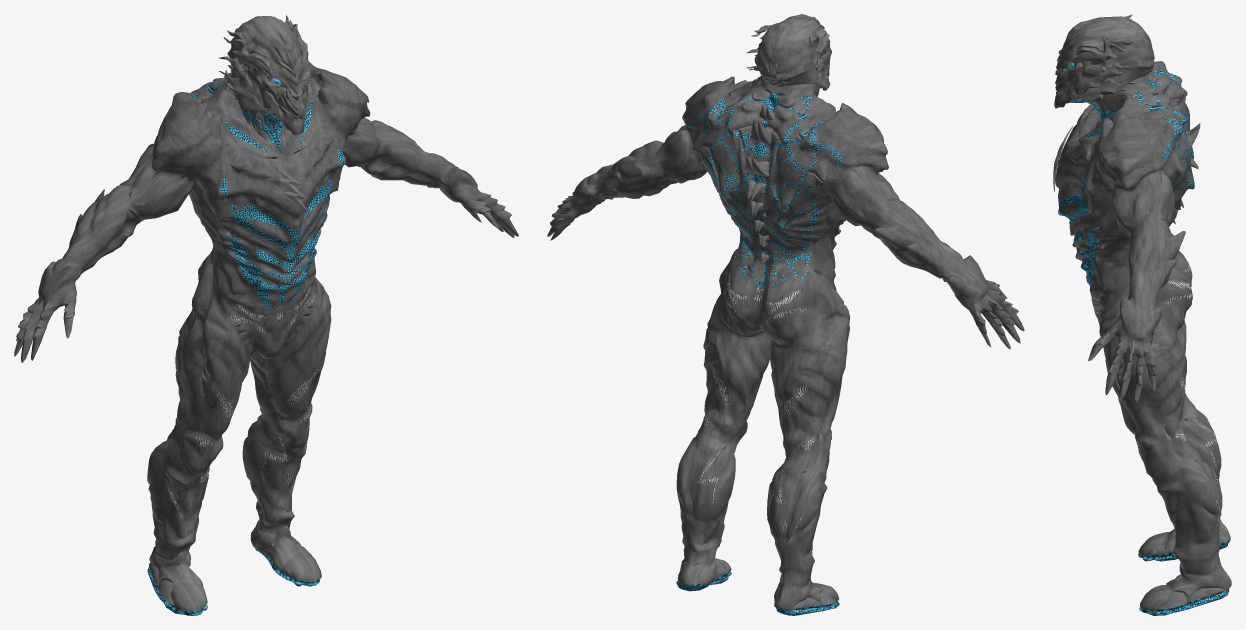
The model's file is cw_savitar.glb.
3 renders of one model, left to right at view 1: azimuth 30°, elevation 25°; view 2: azimuth 150°, elevation 25°; view 3: azimuth 270°, elevation 25°, orthographic. The views are drawn at different scales.
Visible parts, largest first — view 1: v1_30_Maps_0_5; view 2: v1_30_Maps_0_5, v1_Thrones_0_6; view 3: v1_30_Maps_0_5, v1_Thrones_0_6.
Boxes of the visible parts, x1,y1,x2,y2 form: v1_30_Maps_0_5: (14,15,518,615); v1_30_Maps_0_5: (547,14,1024,615); v1_Thrones_0_6: (743,106,774,264); v1_30_Maps_0_5: (1054,14,1231,615); v1_Thrones_0_6: (1159,84,1200,224).
Bounding box in the file's own units: 0.3719 × 0.4241 × 0.1218.
Materials: 3 (3 with a texture image).
